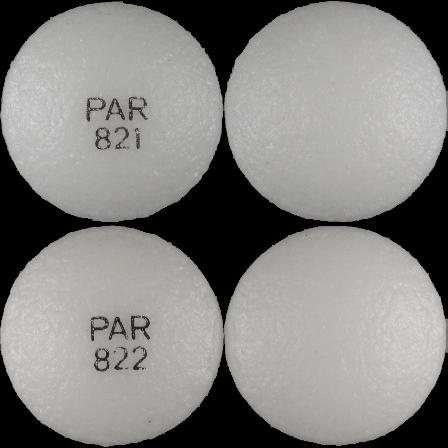49884-821: (0, 0, 224, 224)
